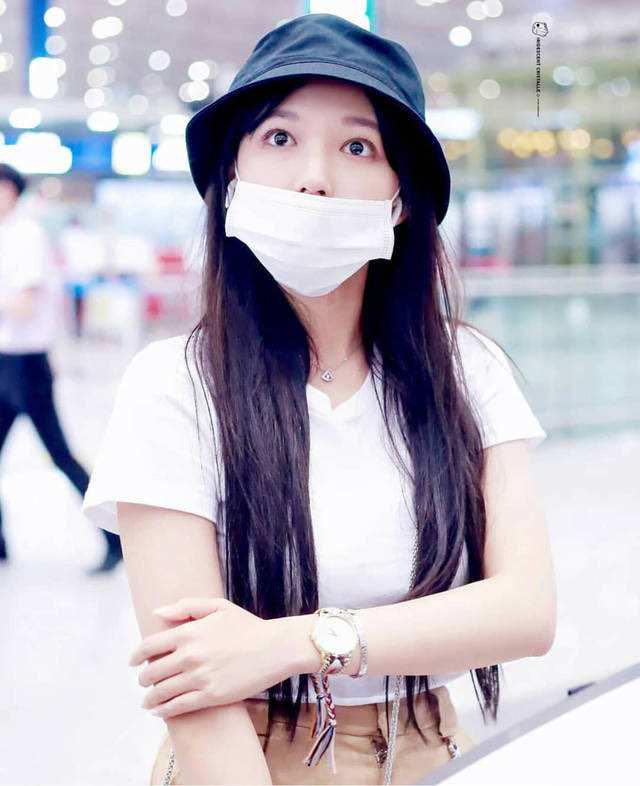WRONG: (233, 93, 397, 292)
